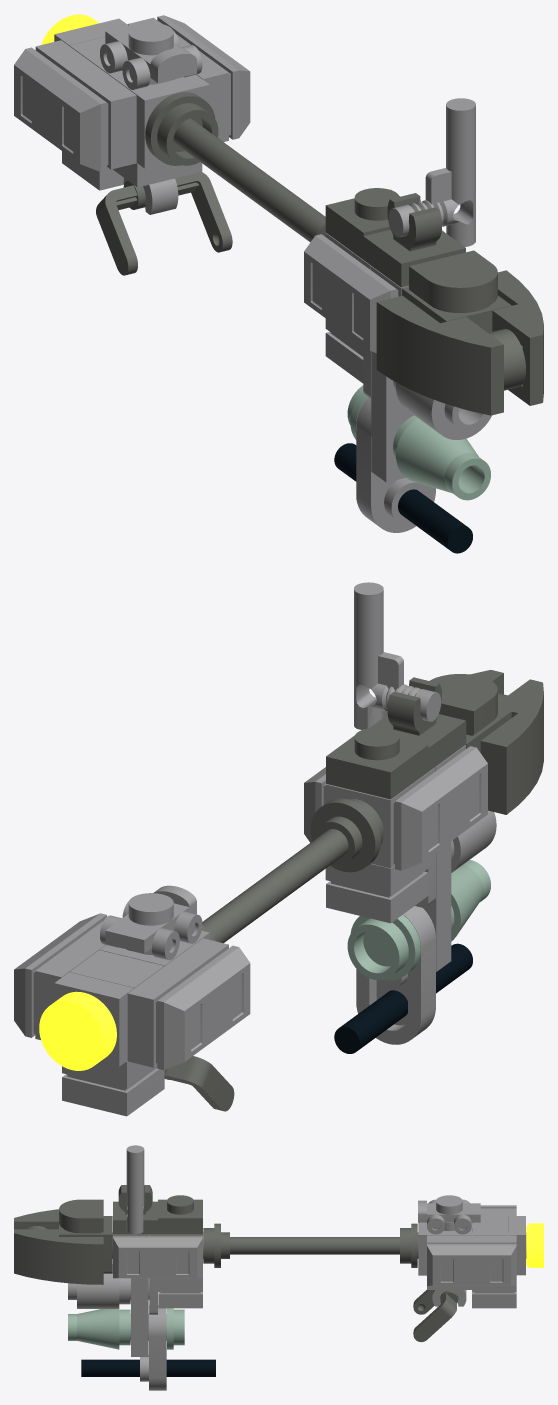
File: nano-nebulon-b.glb
3 views of the same model, one above another, from view 1: azimuth 30°, elevation 25°; view 2: azimuth 150°, elevation 25°; view 3: azimuth 270°, elevation 25° (orthographic). The views are drawn at different scales.
Parts seen in each view (by area): view 1: nano-nebulon-b; view 2: nano-nebulon-b; view 3: nano-nebulon-b.
Part boxes in pixels (x1,y1,x2,y2): nano-nebulon-b: (14,14,543,553); nano-nebulon-b: (14,582,543,1116); nano-nebulon-b: (14,1145,543,1390).
Bounding box in the file's own units: 0.5199 × 1.24 × 2.35.
